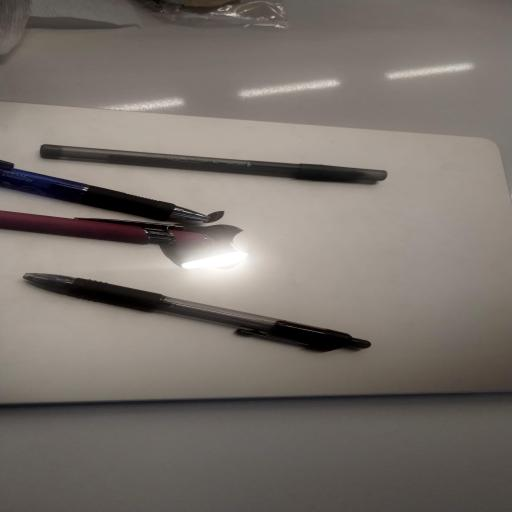pen: (24, 273, 370, 351), (0, 211, 247, 268), (0, 161, 223, 222), (40, 145, 387, 182)
